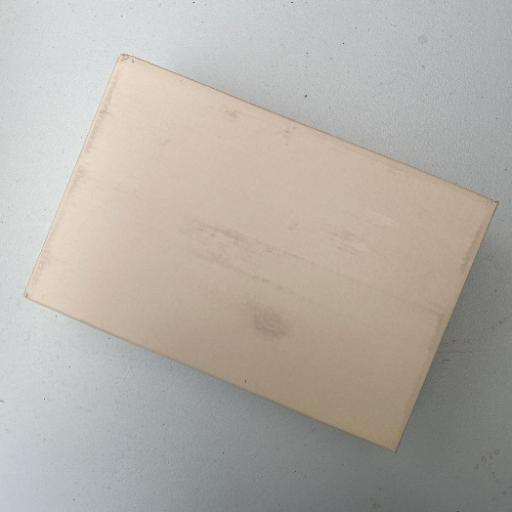Cardboard: (22, 52, 500, 454)
